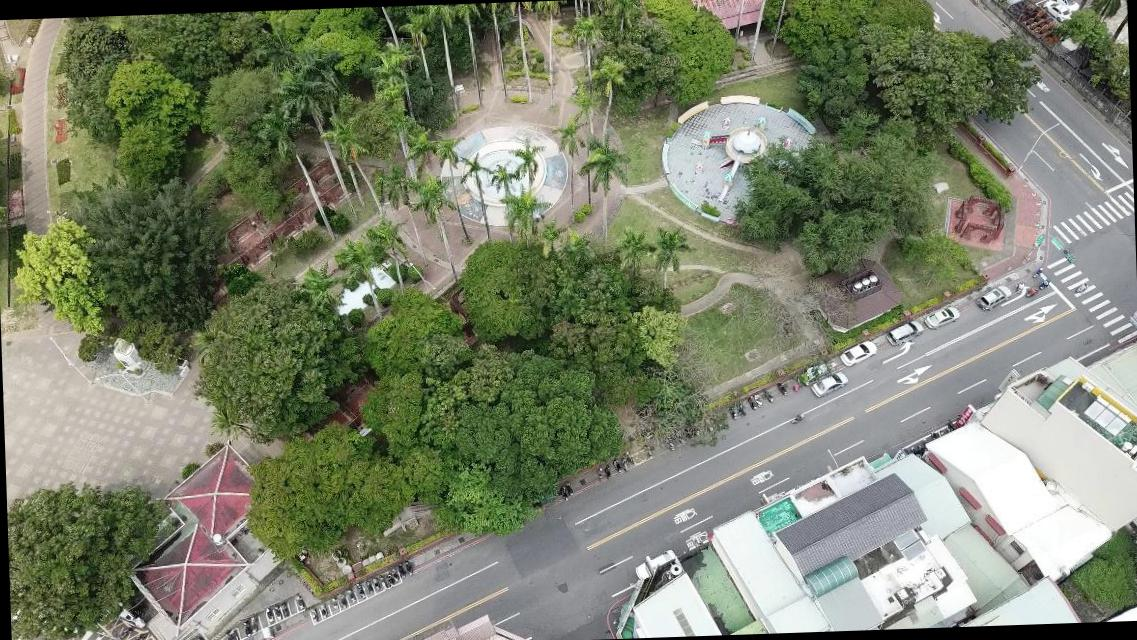vehicle: (633, 548, 675, 578), (838, 339, 878, 366), (809, 371, 849, 398), (974, 284, 1012, 312), (885, 320, 924, 347), (923, 306, 960, 330), (1043, 0, 1069, 22), (1050, 0, 1079, 12)
